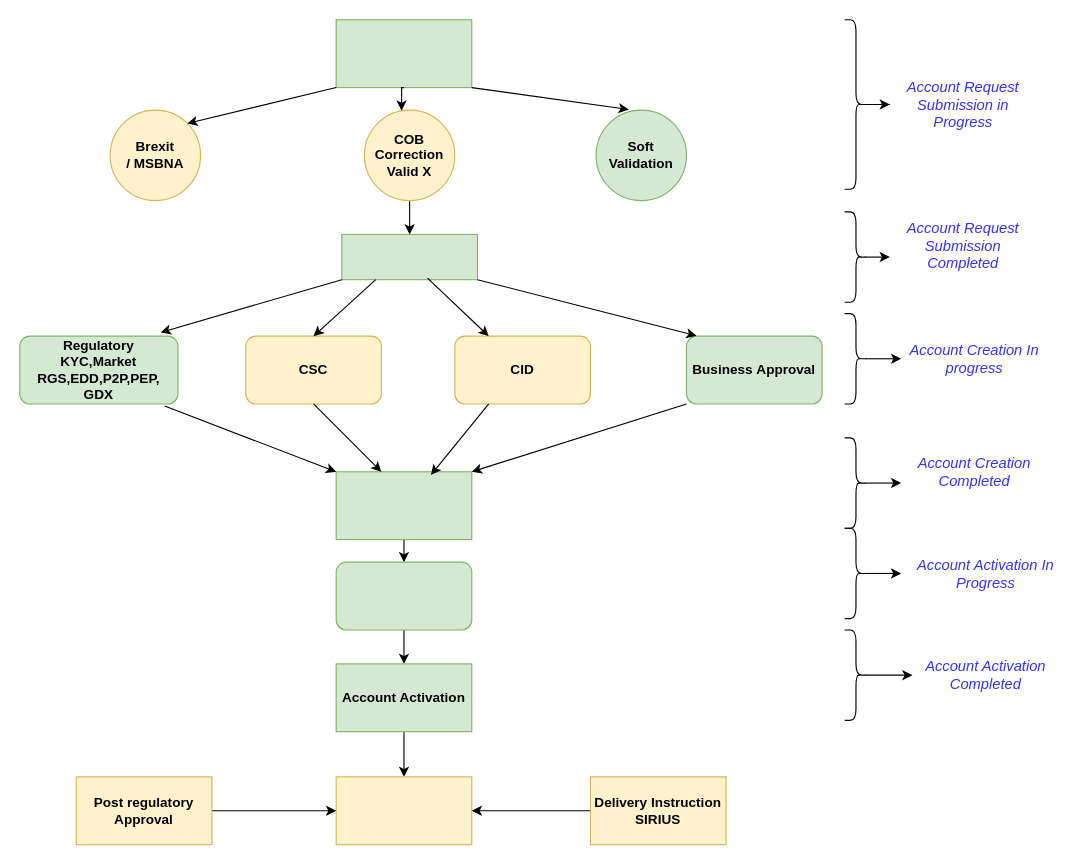
Image size: 1079x864. Some labels were removed from this diagram. The box of each missing label's shape, as (x1, y1, x2, y2) in pixels:
Account Creation: (335, 471, 472, 540)
Account Request Initiation: (335, 19, 472, 88)
Post Account Setup: (335, 776, 472, 845)
Submission: (341, 233, 477, 280)
X Approve: (335, 561, 472, 630)
